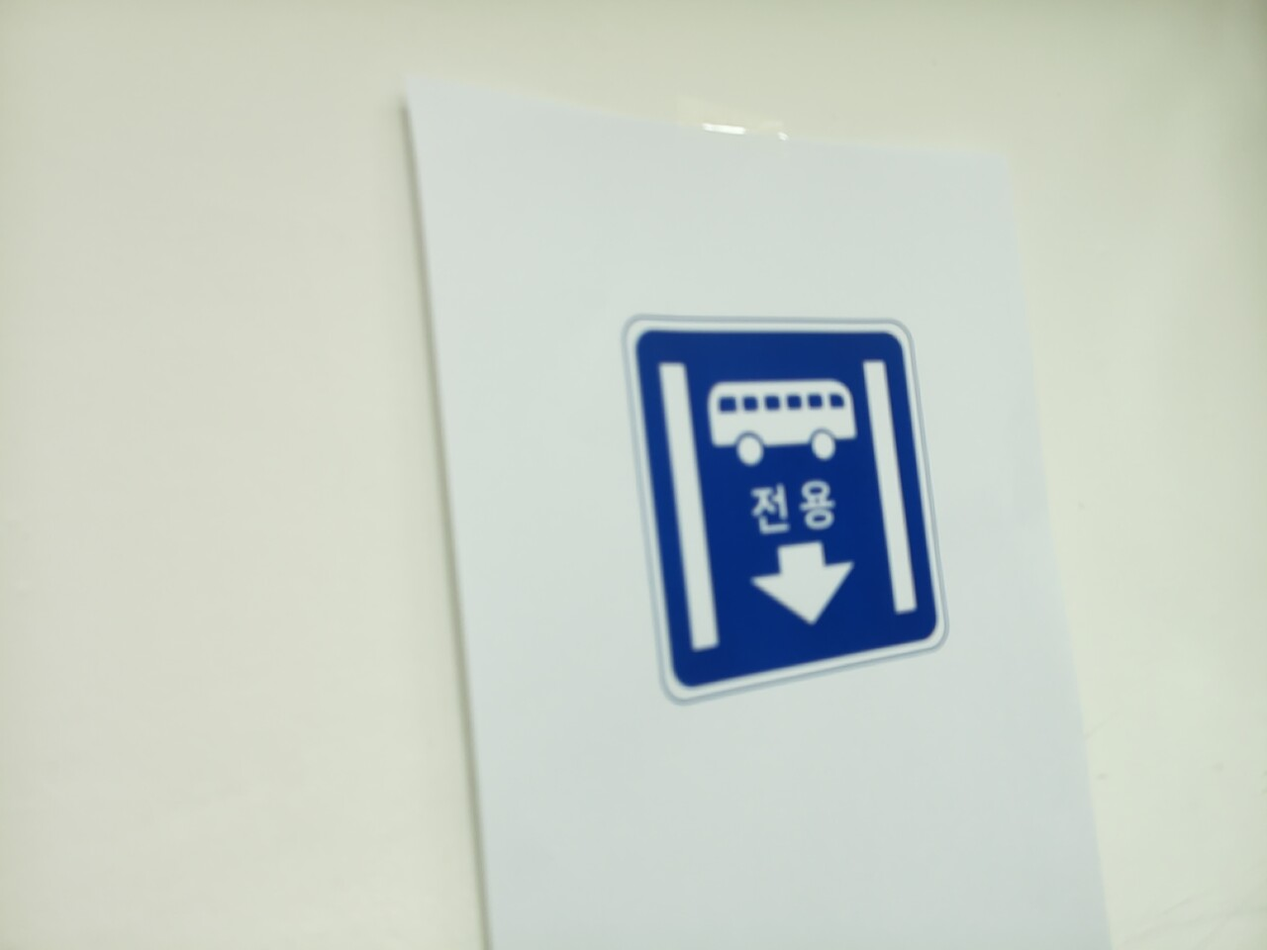bus_only_lane: (626, 319, 946, 698)
